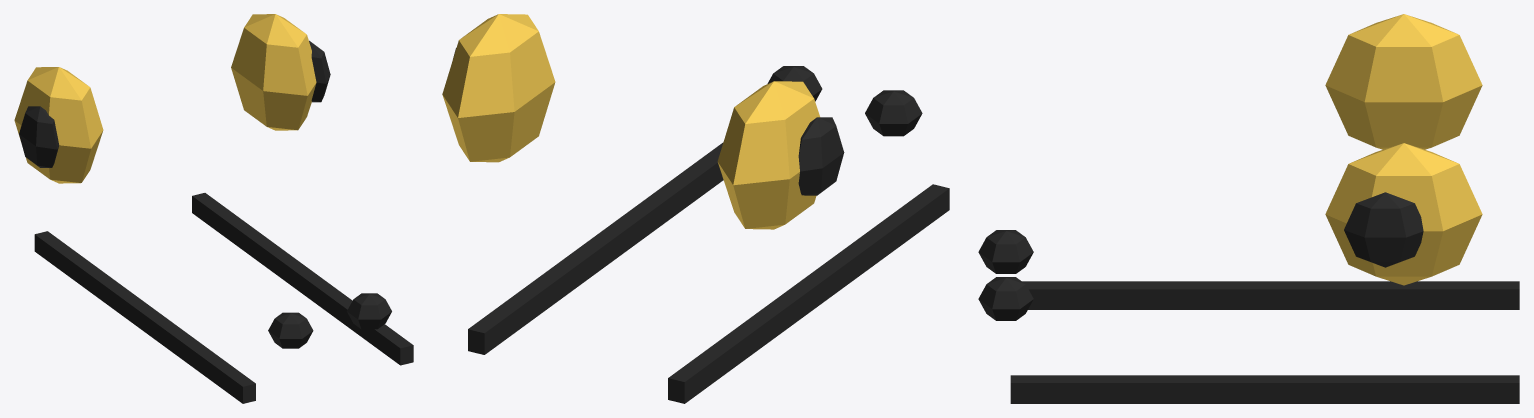
File: compy_face.fbx
3 renders of one model, left to right at view 1: azimuth 30°, elevation 25°; view 2: azimuth 150°, elevation 25°; view 3: azimuth 270°, elevation 25°, orthographic. The views are drawn at different scales.
Parts seen in each view (by area): view 1: compy_Dark, compy_Eyes; view 2: compy_Dark, compy_Eyes; view 3: compy_Dark, compy_Eyes.
Boxes of the visible parts, box(x1,y1,x2,y2) form: compy_Dark: box(19, 40, 413, 403); compy_Eyes: box(14, 14, 316, 183); compy_Dark: box(453, 48, 949, 403); compy_Eyes: box(442, 14, 819, 229); compy_Dark: box(978, 192, 1519, 403); compy_Eyes: box(1325, 14, 1482, 285).
Bounding box in the file's own units: 0.8979 × 0.655 × 1.17.
